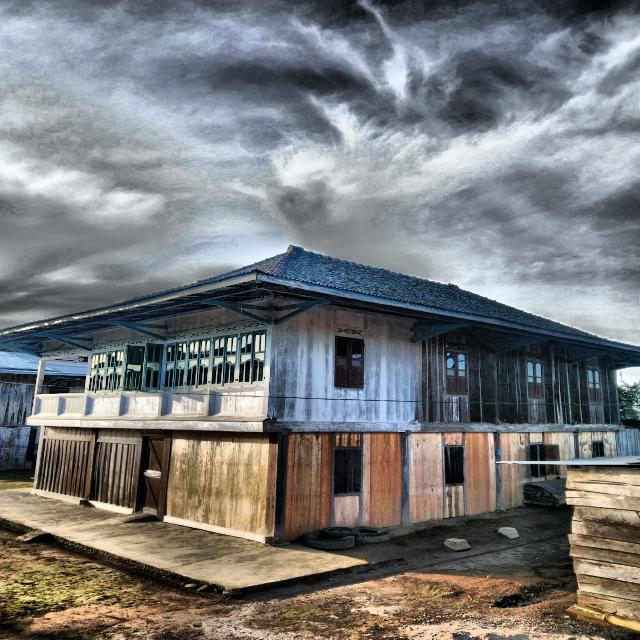door: (138, 437, 164, 515)
ornamen: (208, 387, 264, 416), (161, 390, 208, 416), (119, 393, 160, 417), (85, 394, 119, 416), (58, 396, 85, 416), (34, 396, 58, 416)
roof: (0, 246, 640, 368), (0, 353, 40, 374), (45, 361, 87, 376)
wall: (277, 307, 412, 423), (285, 432, 401, 542), (161, 308, 267, 417), (165, 430, 269, 535), (409, 432, 496, 524), (415, 329, 493, 423), (85, 328, 164, 417), (496, 342, 571, 425), (90, 428, 141, 509), (37, 426, 92, 498), (570, 355, 617, 424), (500, 432, 576, 461), (579, 431, 618, 459)
window: (122, 343, 164, 391), (237, 329, 267, 385), (334, 336, 365, 389), (210, 333, 239, 387), (186, 337, 212, 388), (334, 449, 361, 493), (164, 341, 187, 390), (445, 351, 467, 395), (104, 349, 124, 392), (87, 352, 107, 393), (444, 447, 464, 485), (526, 360, 544, 399), (587, 368, 603, 403), (530, 444, 560, 461), (592, 442, 605, 458)
